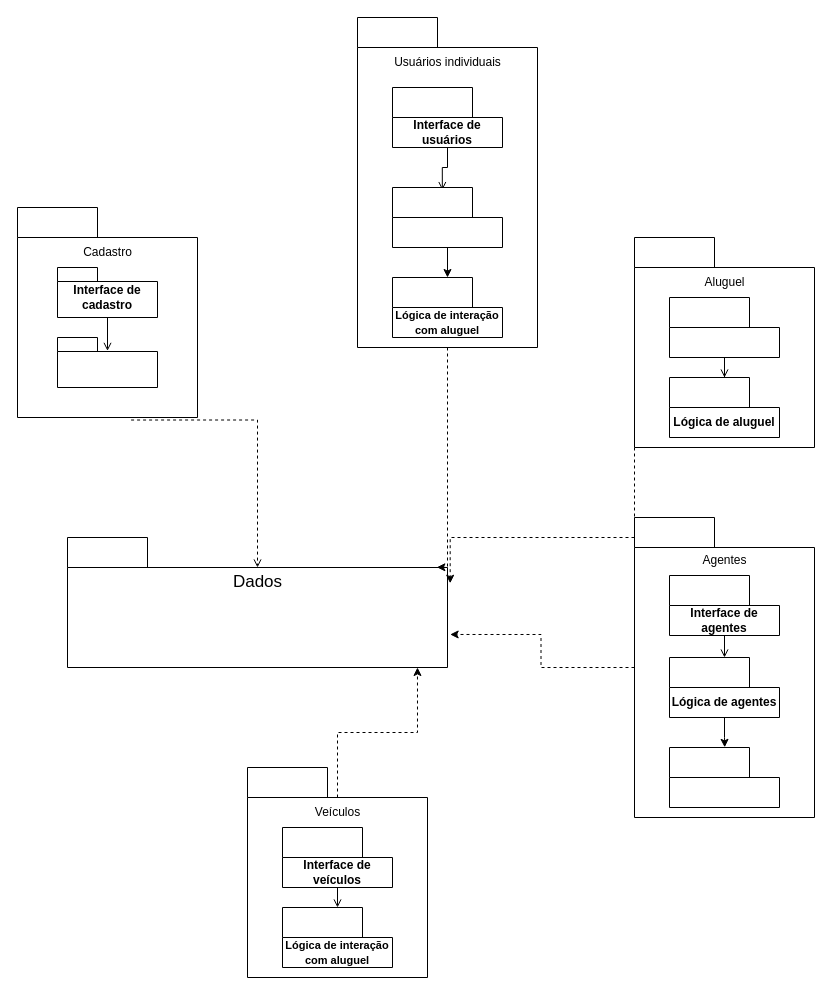
This 832x995 diagram has some shape labels left out. The centre of each missing label's shape, as x and y in pixels:
Interface de aluguel: point 724,327
Lógica de cadastro: point 107,362
Lógica de modificar e avaliar pedidos: point 724,777
Lógica de usuários: point 447,217
